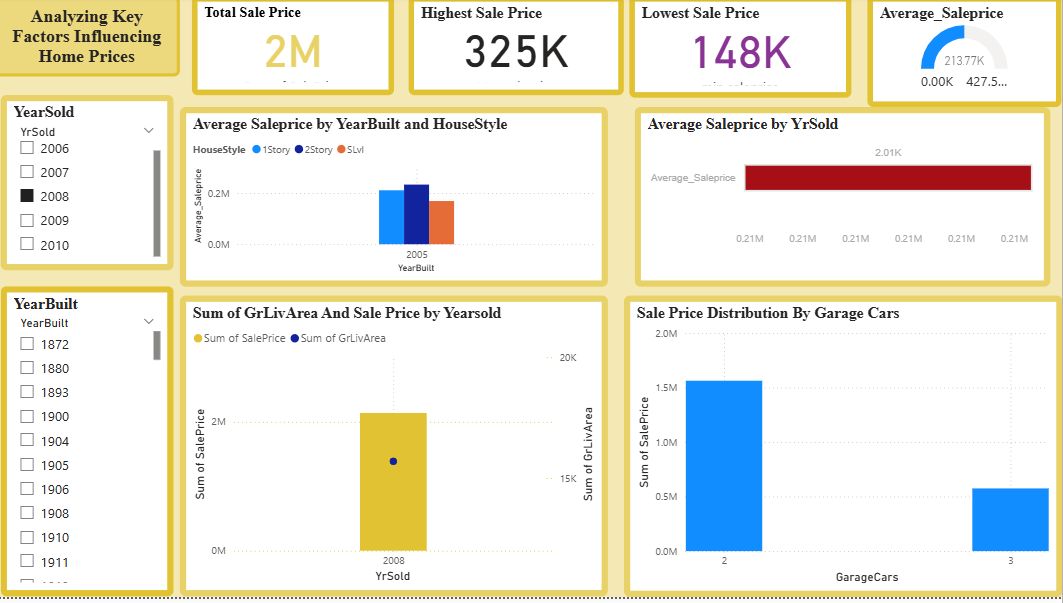

What the dashboard file says about the page in this screenshot:
{"tool":"powerbi","page":{"name":"Page 1","canvas":[1280,720],"ordinal":0},"visuals":[{"type":"card","fields":{"Values":["Sum(train.SalePrice)"]},"box":[241.2,0,241.2,109.1],"z":0},{"type":"card","fields":{"Values":["train.min saleprice"]},"box":[768.1,0,230.4,109.1],"z":2},{"type":"lineStackedColumnComboChart","fields":{"Y":["Sum(train.GrLivArea)","Sum(train.SalePrice)"],"Category":["train.HouseStyle"]},"box":[222.7,359.5,513.1,361],"z":3},{"type":"clusteredColumnChart","fields":{"Category":["train.GarageCars"],"Y":["Sum(train.SalePrice)"]},"box":[754.2,359.5,525.4,361],"z":4},{"type":"gauge","fields":{"Y":["train.Average"]},"box":[1013.8,0,251.9,115.2],"z":5},{"type":"slicer","fields":{"Values":["train.YearBuilt","train.YrSold"]},"box":[0,110.6,207.4,605.2],"z":6},{"type":"TableHeatMap1443716069308","fields":{"Y":["train.Average_Saleprice"],"Category":["train.YrSold"]},"box":[768.1,133.6,497.7,215.1],"z":7},{"type":"clusteredColumnChart","fields":{"Category":["train.YearBuilt"],"Y":["train.Average_Saleprice"],"Series":["train.HouseStyle"]},"box":[222.7,133.6,513.1,215.1],"z":8},{"type":"textbox","box":[0,0,222.7,96.8],"z":9},{"type":"card","fields":{"Values":["train.Max saleprice"]},"box":[506.9,1.5,247.3,109.1],"z":10}]}

Visuals, with their boxes in screenshot pixels (x1, y1, x2, y2), scaled from the page's 1280x720 canvas onto the 1063x603 screenshot:
card - Sum(train.SalePrice): [left=200, top=0, right=401, bottom=91]
card - train.min saleprice: [left=638, top=0, right=829, bottom=91]
lineStackedColumnComboChart - Sum(train.GrLivArea) x Sum(train.SalePrice): [left=185, top=301, right=611, bottom=602]
clusteredColumnChart - train.GarageCars x Sum(train.SalePrice): [left=626, top=301, right=1062, bottom=602]
gauge - train.Average: [left=842, top=0, right=1051, bottom=96]
slicer - train.YearBuilt x train.YrSold: [left=0, top=93, right=172, bottom=599]
TableHeatMap1443716069308 - train.Average_Saleprice x train.YrSold: [left=638, top=112, right=1051, bottom=292]
clusteredColumnChart - train.YearBuilt x train.Average_Saleprice: [left=185, top=112, right=611, bottom=292]
textbox: [left=0, top=0, right=185, bottom=81]
card - train.Max saleprice: [left=421, top=1, right=626, bottom=93]
